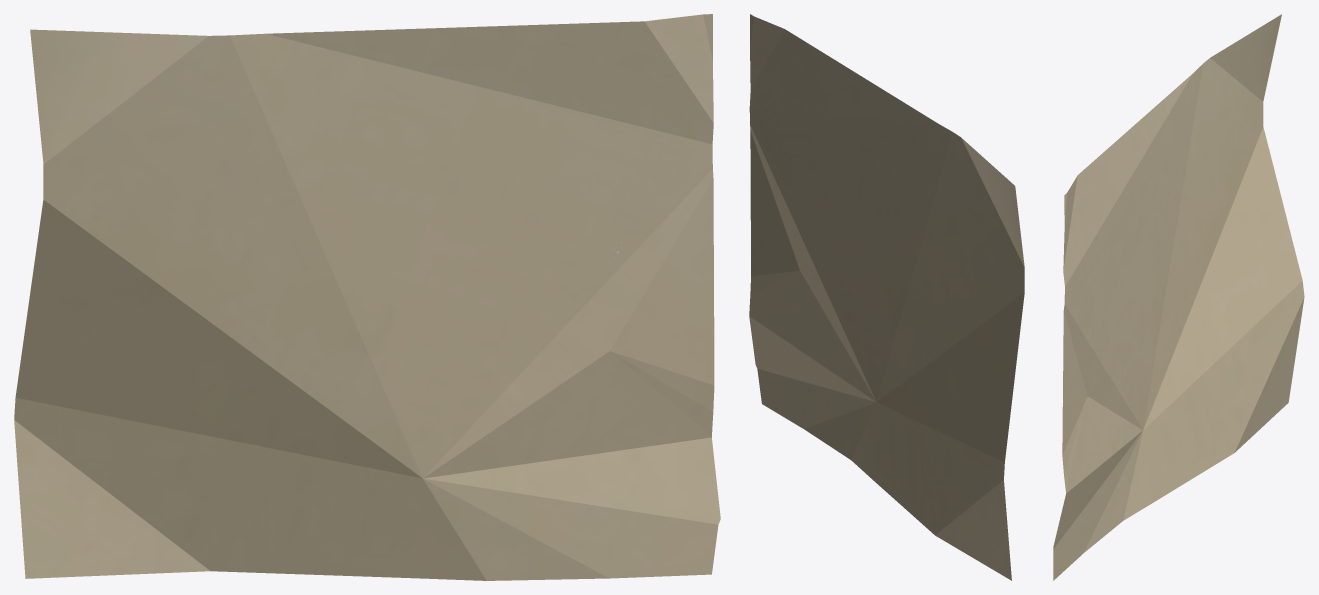
3 views of the same model, side by side, from view 1: azimuth 30°, elevation 25°; view 2: azimuth 150°, elevation 25°; view 3: azimuth 270°, elevation 25° (orthographic). The views are drawn at different scales.
Bounding box in the file's own units: 0.8374 × 0.8374 × 0.4902.
Materials: 3 (3 with a texture image).
